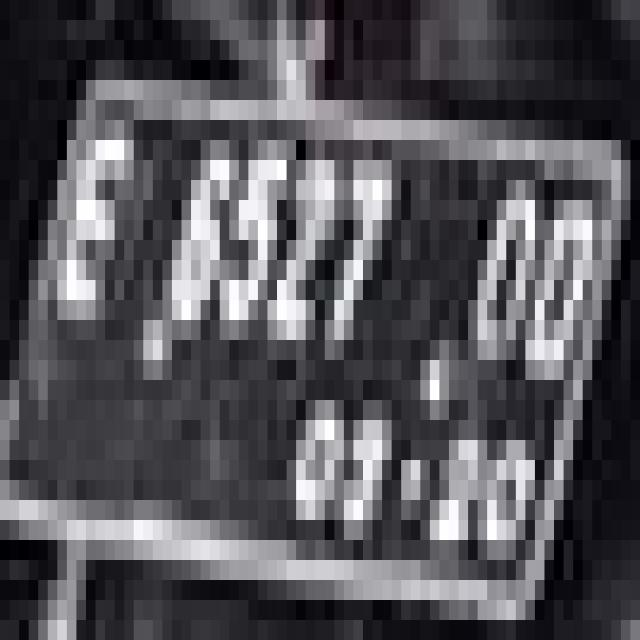plate: (0, 26, 602, 586)
